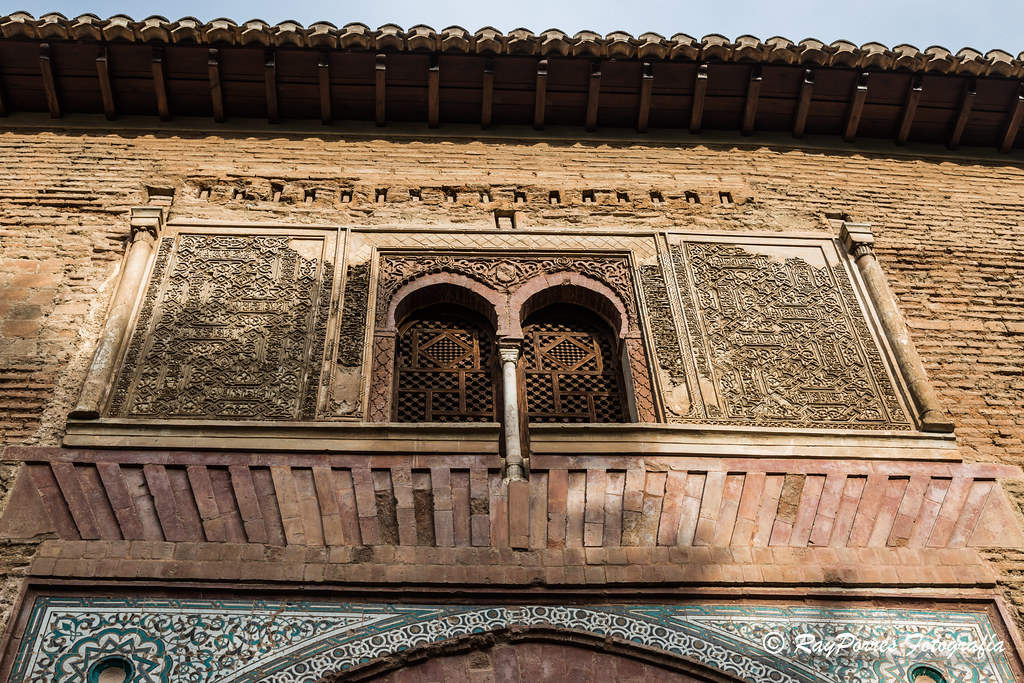arco-herradura: (511, 273, 637, 362), (387, 273, 511, 361)
dintel-adovelado: (10, 449, 1014, 574)
